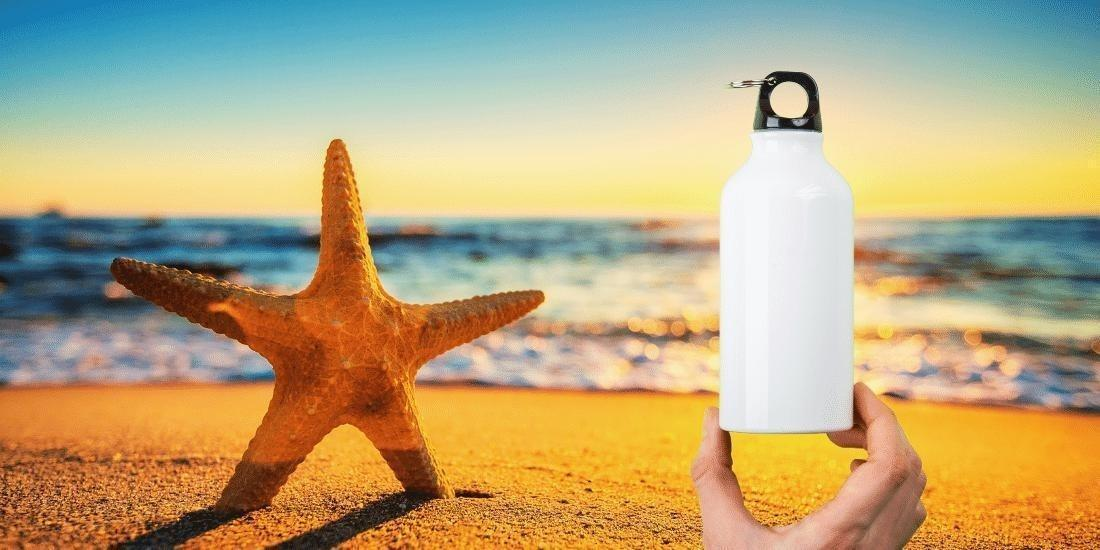gym bottle: (716, 68, 858, 436)
